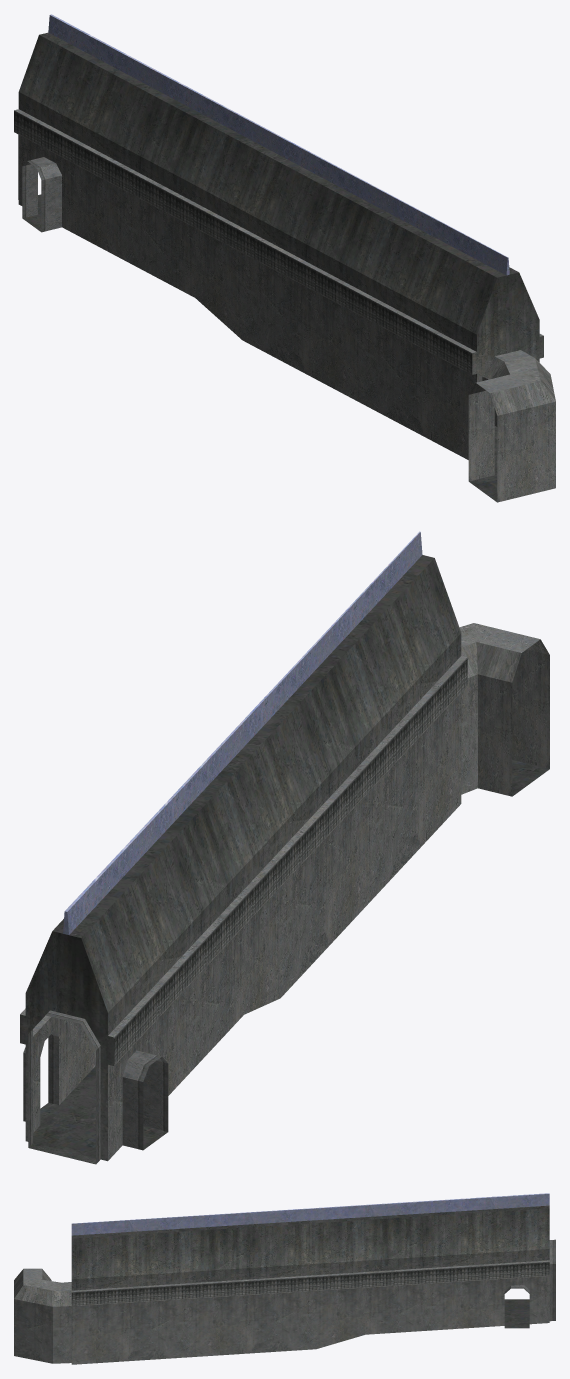
The model's file is thm_yavn_jedi_enclave_dark_r11_hallwaya1_mesh.fbx.
3 views of the same model, one above another, from view 1: azimuth 30°, elevation 25°; view 2: azimuth 150°, elevation 25°; view 3: azimuth 270°, elevation 25° (orthographic). The views are drawn at different scales.
Parts seen in each view (by area): view 1: mesh_node; view 2: mesh_node; view 3: mesh_node.
Boxes of the visible parts, x1=… form: mesh_node: x1=14, y1=14, x2=555, y2=502; mesh_node: x1=20, y1=531, x2=549, y2=1164; mesh_node: x1=14, y1=1193, x2=555, y2=1364.
Size of the model in its own units: 10.46 by 11.5 by 43.09.
